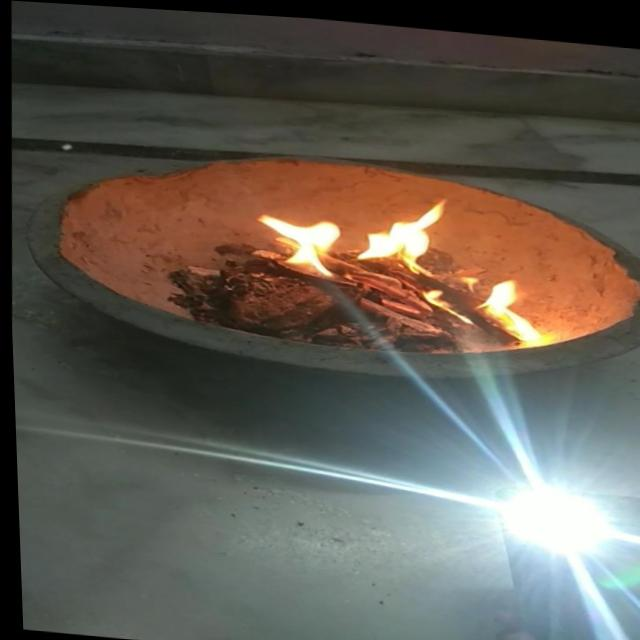fire: (244, 196, 357, 284), (355, 184, 459, 271), (464, 266, 554, 344)
